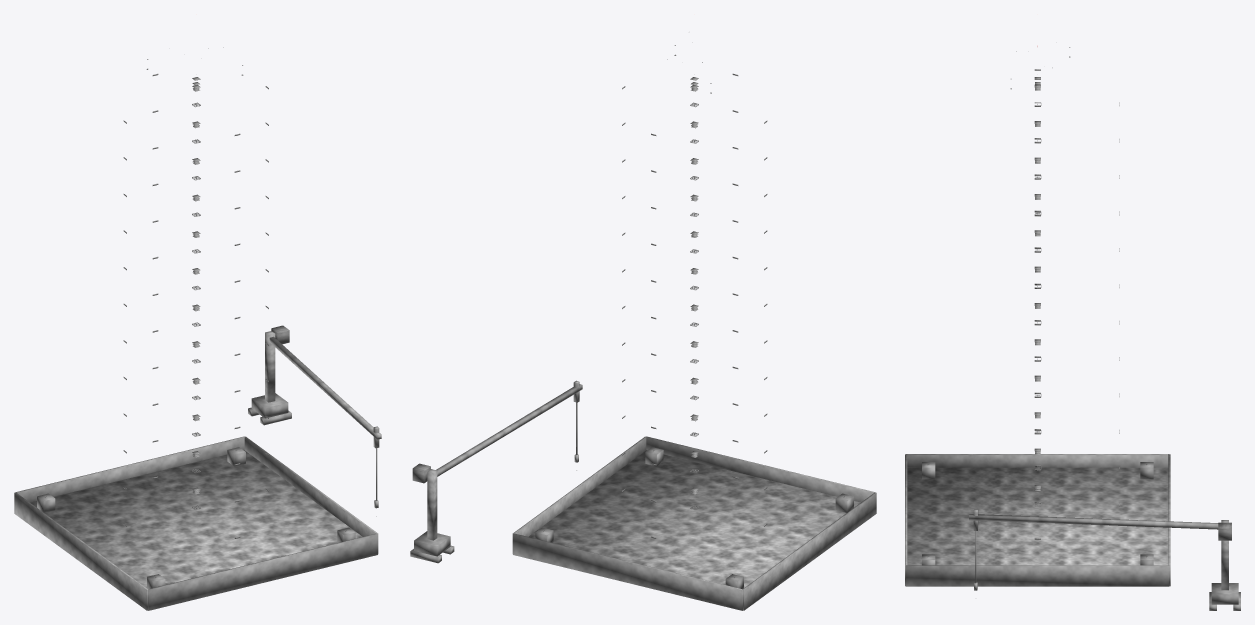
Rendered from skyscraper.glb.
The picture shows the model from 3 angles, left to right: view 1: azimuth 30°, elevation 25°; view 2: azimuth 150°, elevation 25°; view 3: azimuth 270°, elevation 25°; orthographic projection.
Visible parts, largest first — view 1: ST_Pad, ST_Fence_0, ST_Fence_2, ST_Fence_1, ST_Fence_3, ST_CraneBoom, ST_CraneTower, ST_CraneBase; view 2: ST_Pad, ST_Fence_1, ST_Fence_2, ST_Fence_0, ST_Fence_3, ST_CraneBoom, ST_CraneTower, ST_CraneBase; view 3: ST_Pad, ST_Fence_3, ST_Fence_2, ST_CraneBoom, ST_CraneBase.
Boxes of the visible parts, <box> form: ST_Pad: <box>30,450,362,587</box>; ST_Fence_0: <box>148,533,377,610</box>; ST_Fence_2: <box>14,492,148,610</box>; ST_Fence_1: <box>14,436,244,502</box>; ST_Fence_3: <box>244,436,378,553</box>; ST_CraneBoom: <box>269,336,381,439</box>; ST_CraneTower: <box>265,331,275,402</box>; ST_CraneBase: <box>251,393,288,418</box>; ST_Pad: <box>528,450,860,587</box>; ST_Fence_1: <box>513,533,742,610</box>; ST_Fence_2: <box>742,492,876,610</box>; ST_Fence_0: <box>646,436,876,502</box>; ST_Fence_3: <box>512,436,646,553</box>; ST_CraneBoom: <box>436,384,582,476</box>; ST_CraneTower: <box>427,469,437,540</box>; ST_CraneBase: <box>414,531,450,556</box>; ST_Pad: <box>907,467,1168,565</box>; ST_Fence_3: <box>906,565,1169,586</box>; ST_Fence_2: <box>906,454,1168,467</box>; ST_CraneBoom: <box>969,514,1218,529</box>; ST_CraneBase: <box>1211,583,1238,604</box>.
Size of the model in its own units: 12.86 by 21.78 by 12.55.
Materials: 17 (17 with a texture image).
